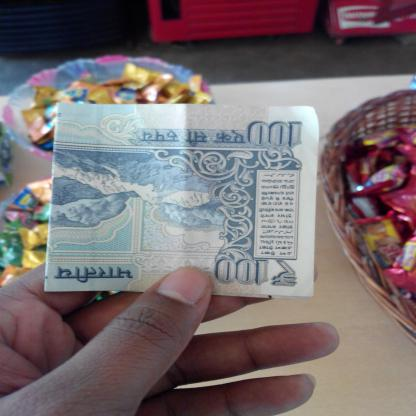Old100Back: (45, 100, 318, 300)
